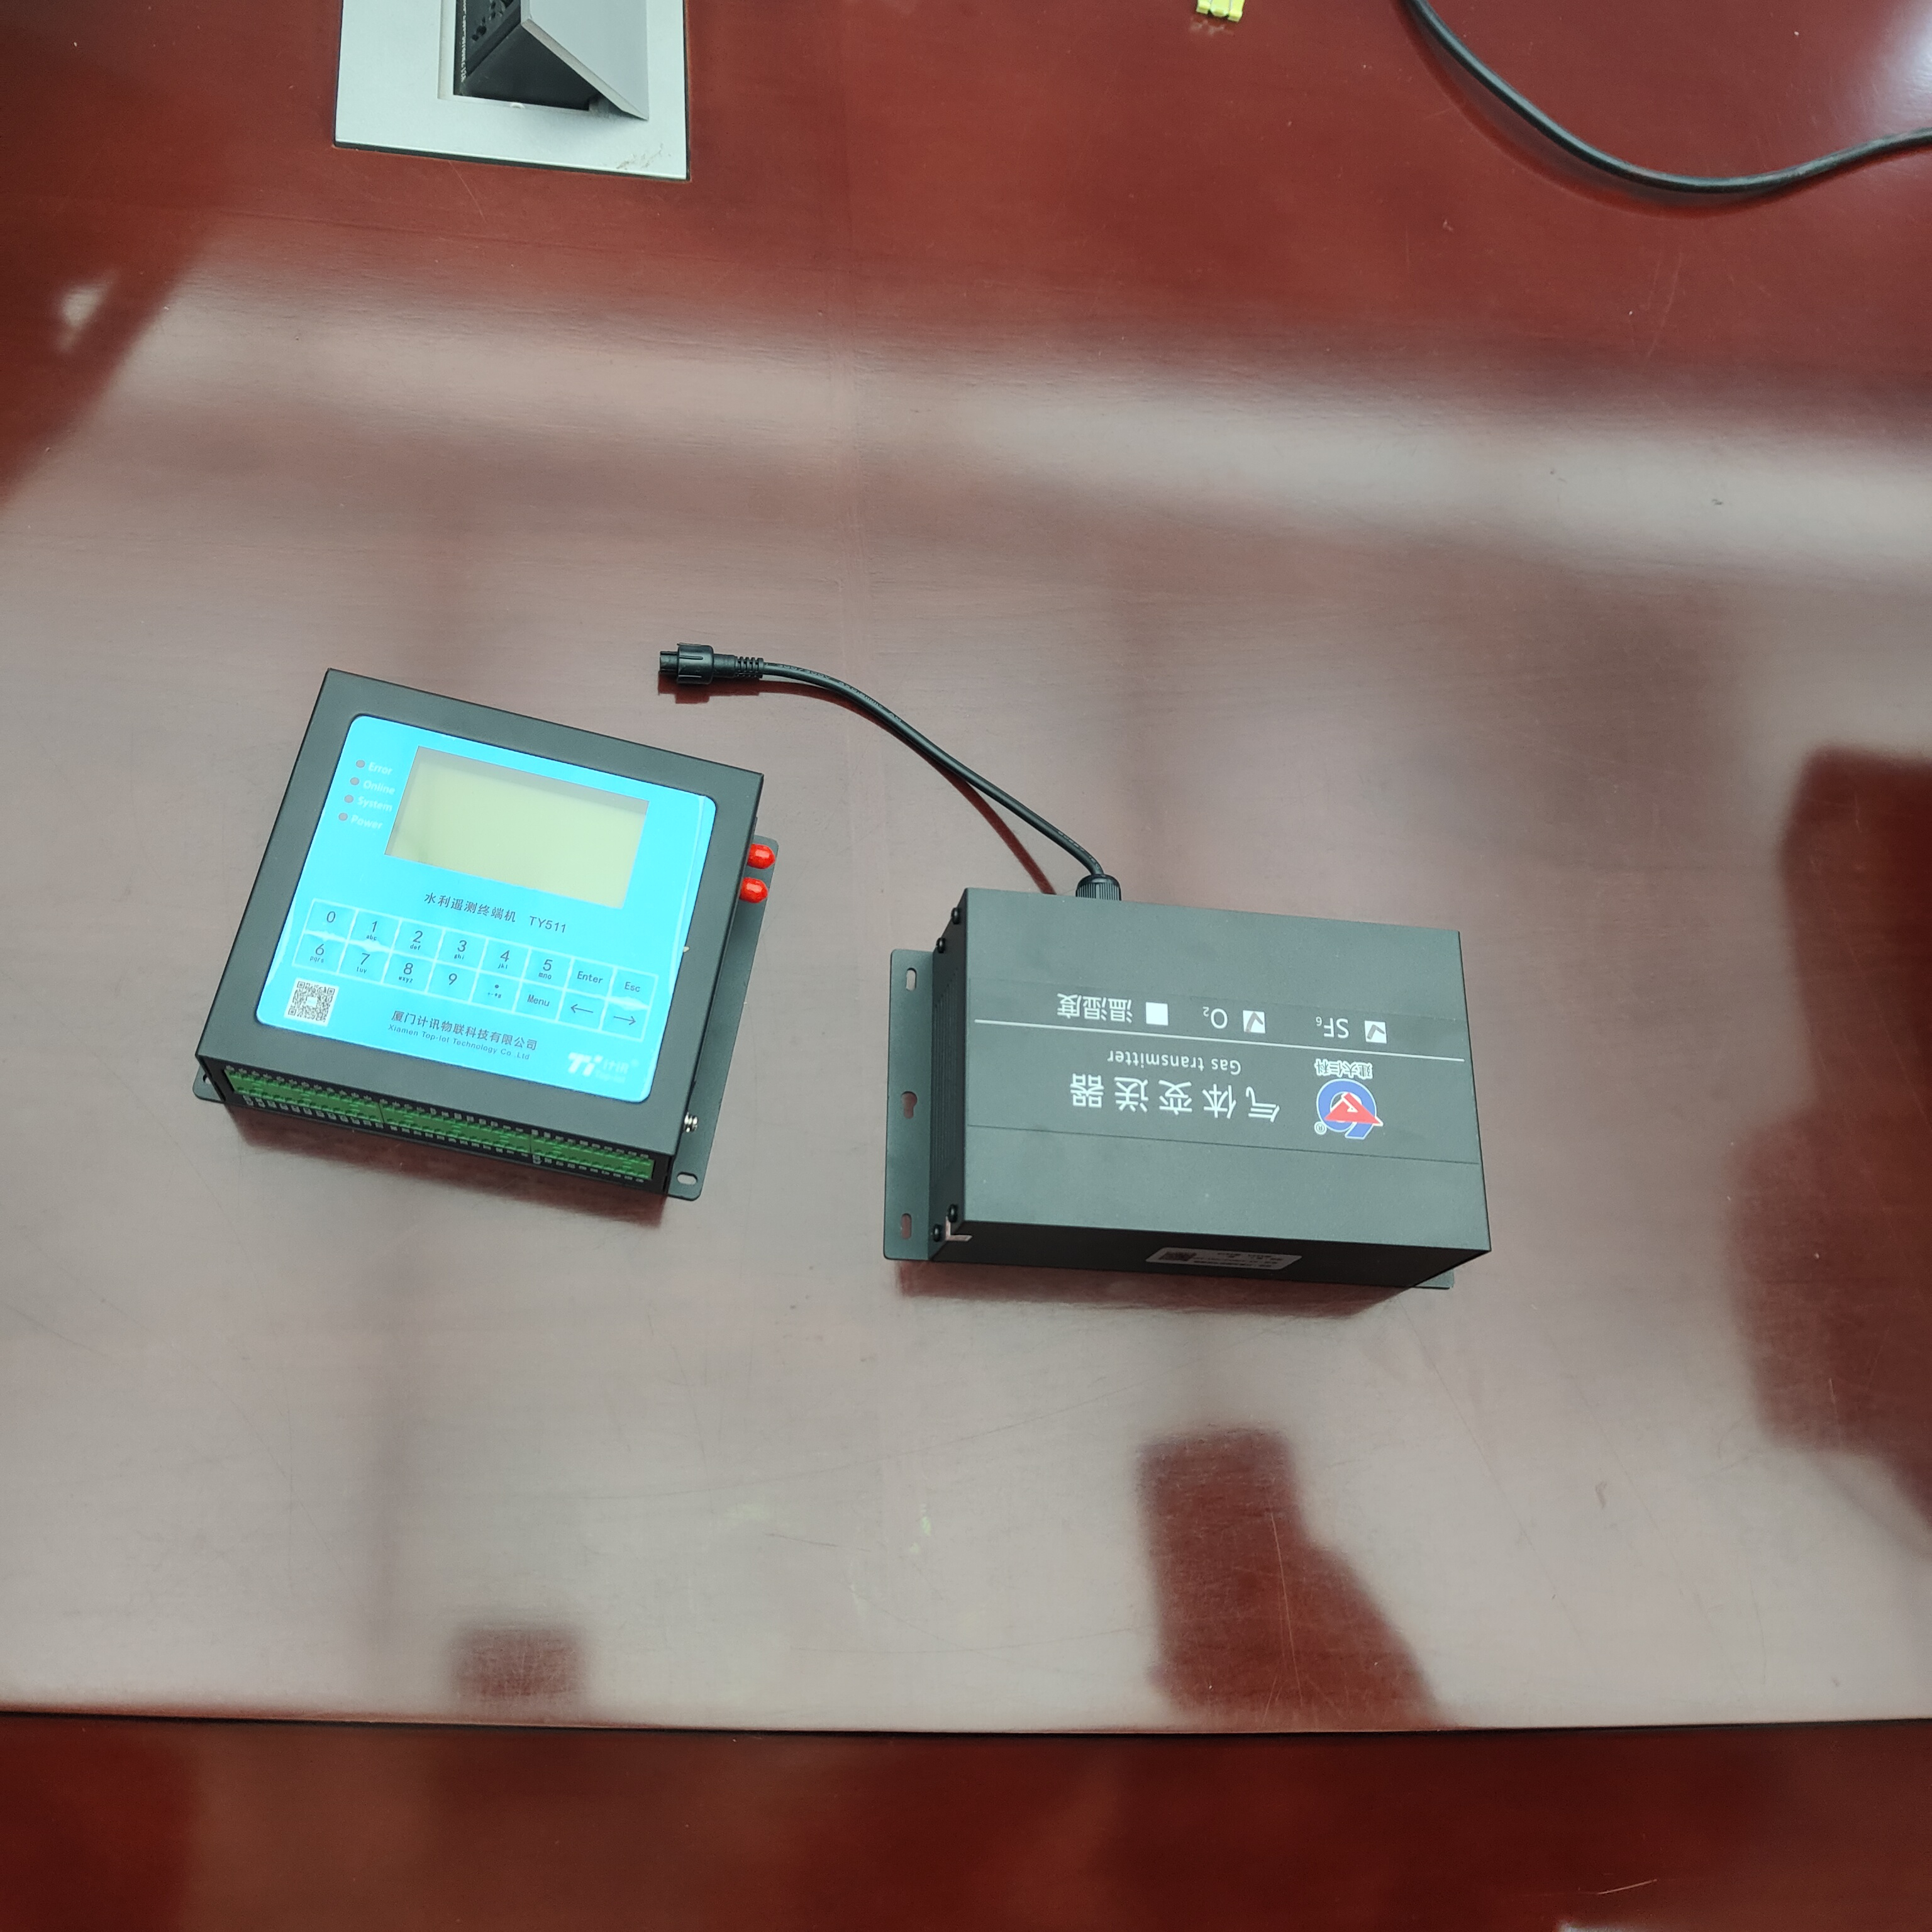qtbsq: (885, 878, 1495, 1339)
slyczd: (193, 655, 787, 1231)
